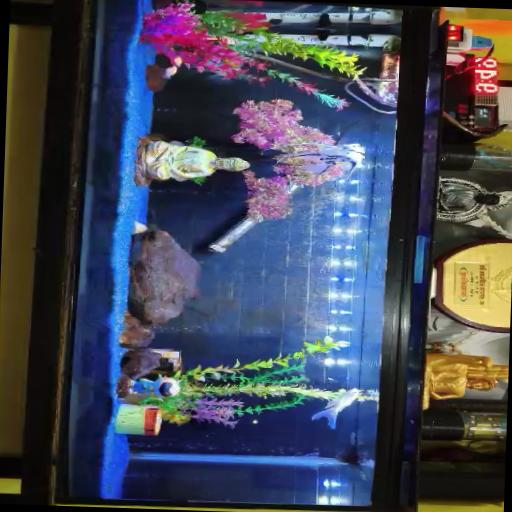Fish: (310, 388, 359, 427), (163, 56, 180, 77)
